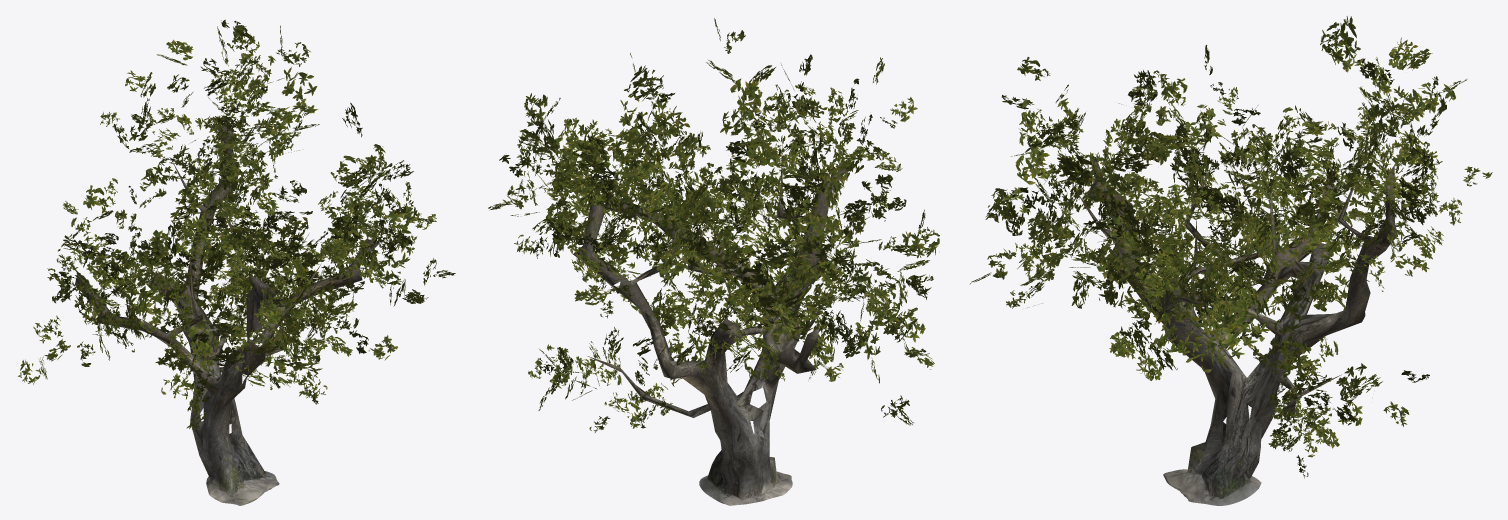
The picture shows the model from 3 angles, left to right: view 1: azimuth 30°, elevation 25°; view 2: azimuth 150°, elevation 25°; view 3: azimuth 270°, elevation 25°; orthographic projection. The views are drawn at different scales.
Parts seen in each view (by area): view 1: tree; view 2: tree; view 3: tree.
Part boxes in pixels (<box>): tree: <box>18,19,455,505</box>; tree: <box>488,18,939,505</box>; tree: <box>969,16,1492,505</box>.
Bounding box in the file's own units: 4.83 × 5.02 × 4.83.
2 materials, 2 textured.
